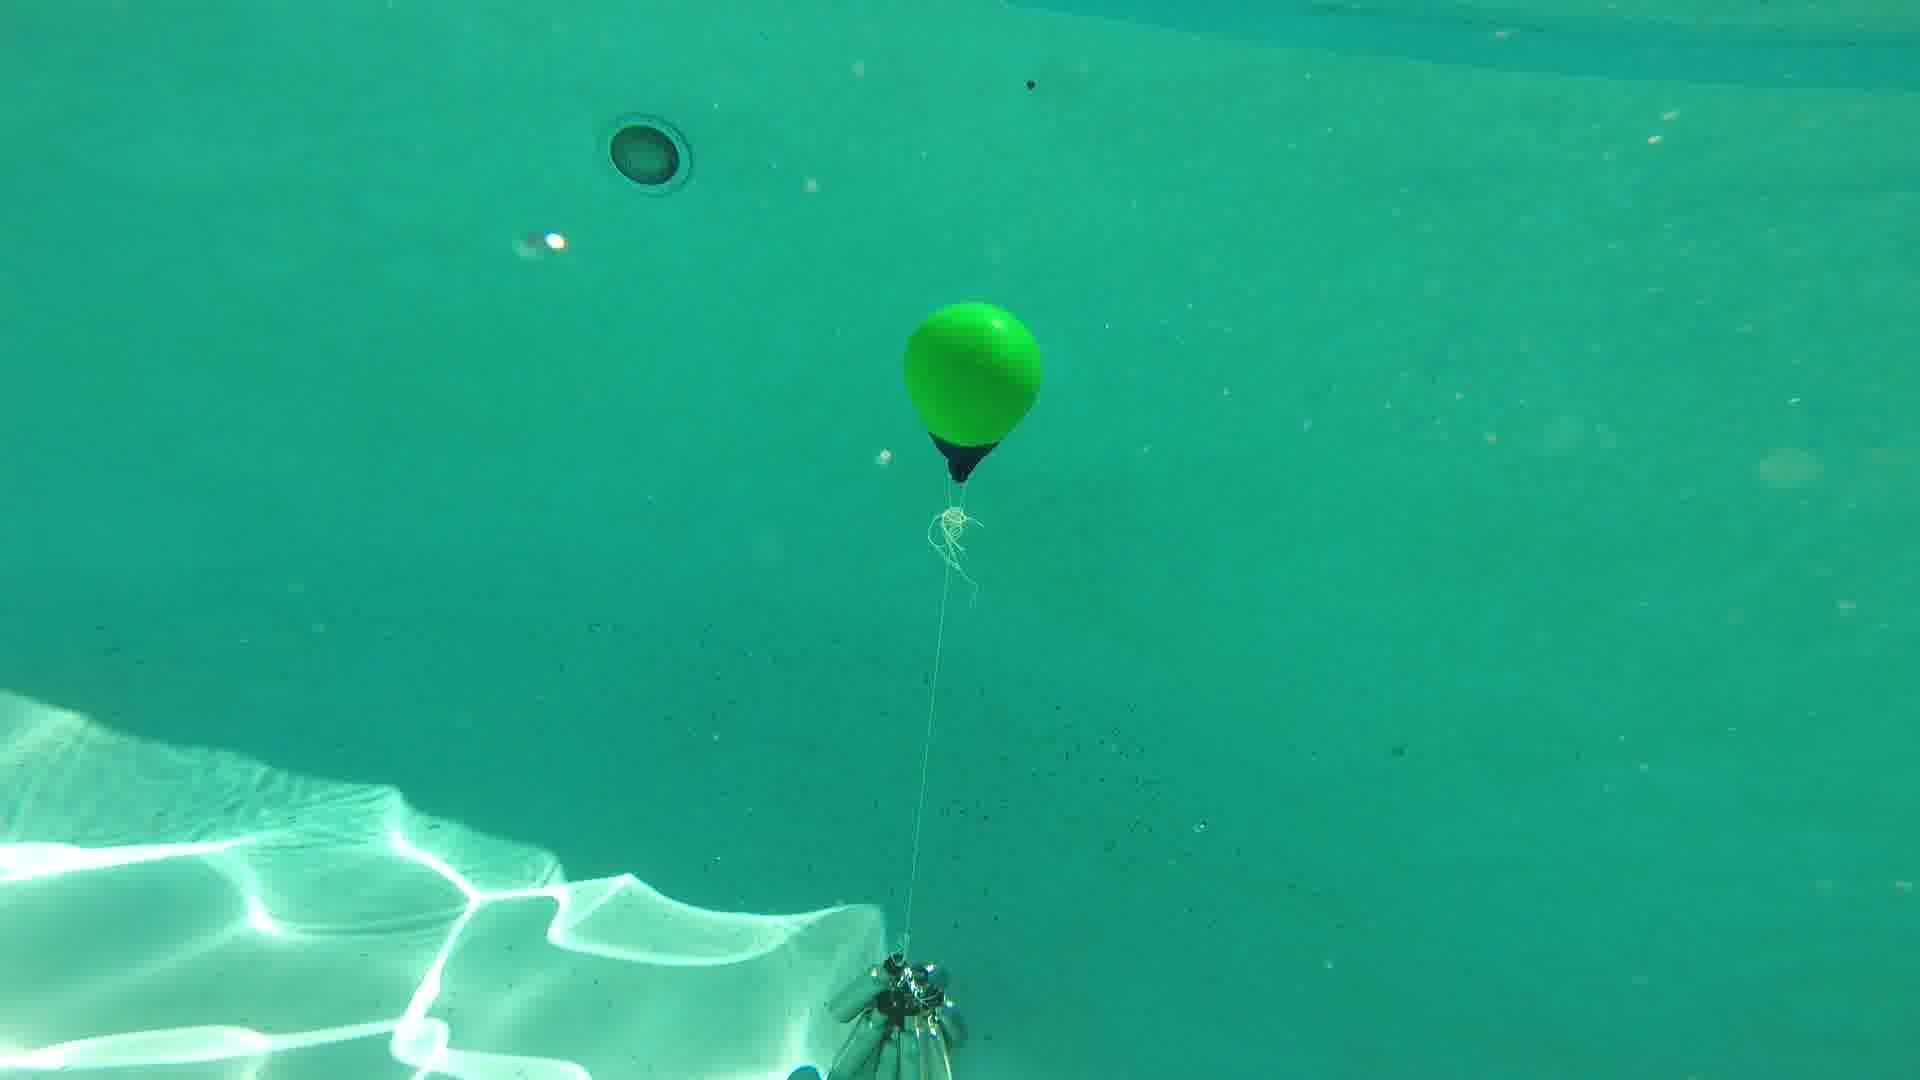yellow_buoy: (899, 302, 1042, 481)
